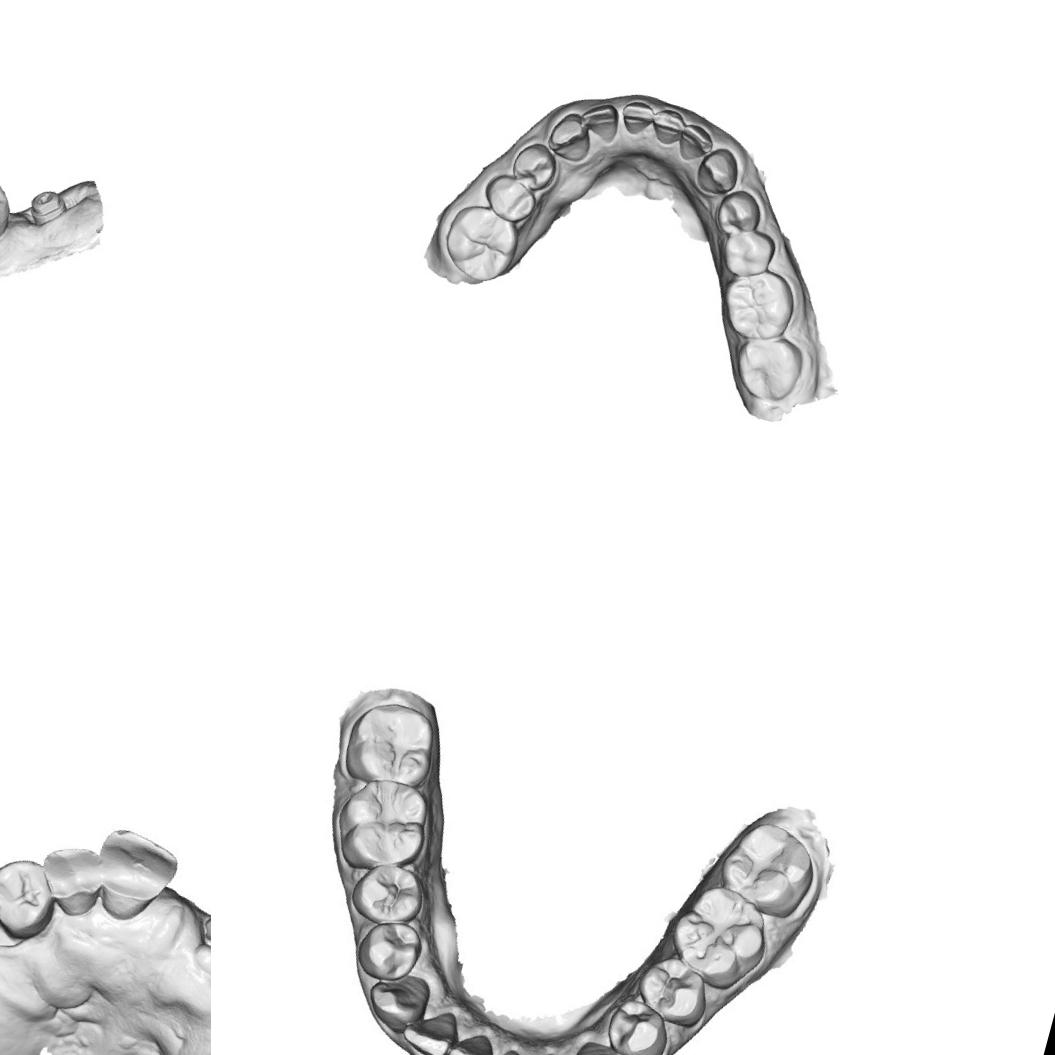canine: (358, 965, 434, 1038), (542, 105, 598, 165), (690, 140, 746, 199), (568, 1036, 635, 1055)
implant_minus: (24, 180, 70, 231)
incisor: (85, 821, 186, 928), (28, 837, 109, 921), (398, 1001, 470, 1055), (573, 94, 626, 146), (672, 118, 718, 169), (645, 102, 690, 150), (614, 94, 658, 140), (442, 1026, 505, 1055), (477, 1041, 537, 1055)
molar: (326, 770, 439, 876), (665, 878, 773, 984), (339, 692, 447, 794), (714, 812, 816, 916), (434, 198, 526, 290), (714, 258, 802, 348), (726, 328, 808, 408), (0, 162, 21, 259)
premolar: (634, 950, 713, 1026), (347, 856, 427, 928), (0, 850, 62, 942), (354, 909, 428, 984), (602, 995, 676, 1055), (716, 221, 780, 284), (476, 168, 542, 228), (708, 182, 768, 242), (505, 136, 562, 196)
